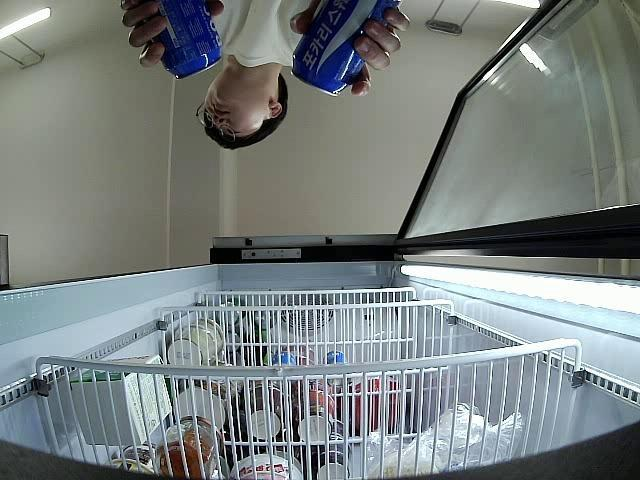13_pocariSweat: (288, 9, 411, 96), (123, 0, 224, 69)
